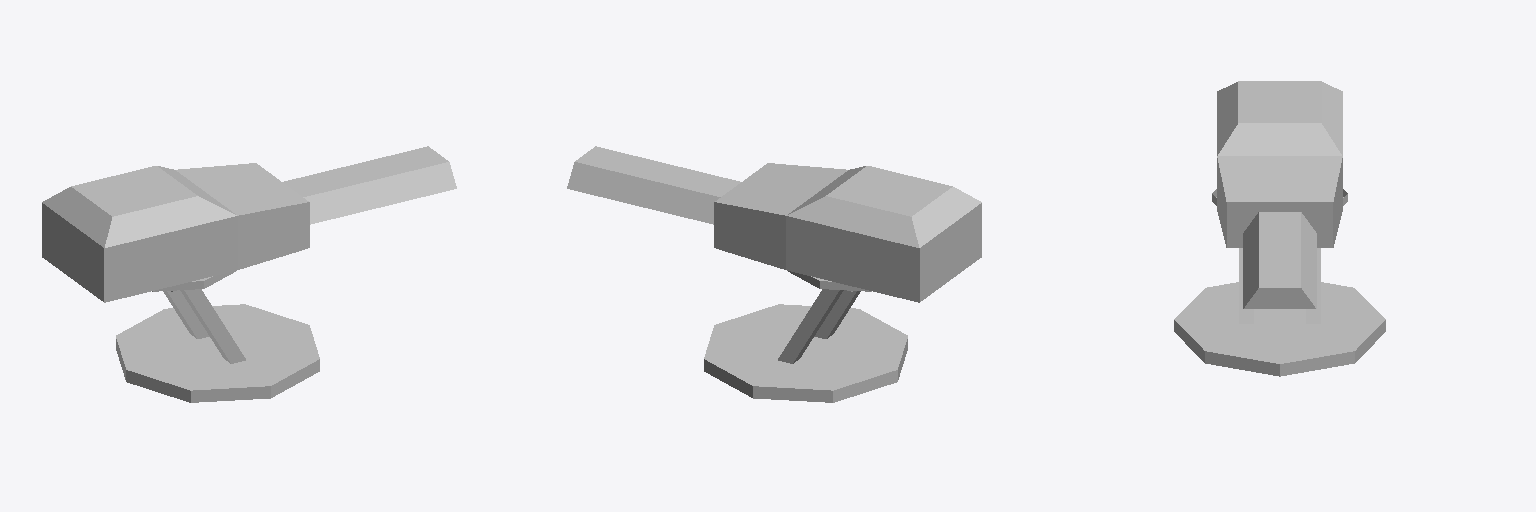
Rendered from turretActive.obj.
3 renders of one model, left to right at view 1: azimuth 30°, elevation 25°; view 2: azimuth 150°, elevation 25°; view 3: azimuth 270°, elevation 25°, orthographic.
Parts seen in each view (by area): view 1: Cube_Cube.003, Cylinder, Cube.001_Cube.002, Cube.003_Cube.005, Cube.002_Cube.004; view 2: Cube_Cube.003, Cylinder, Cube.001_Cube.002, Cube.002_Cube.004, Cube.003_Cube.005; view 3: Cube_Cube.003, Cylinder, Cube.001_Cube.002.
Boxes of the visible parts, box(x1,y1,x2,y2) form: Cube_Cube.003: box(42, 163, 309, 302); Cylinder: box(116, 304, 319, 402); Cube.001_Cube.002: box(283, 146, 456, 224); Cube.003_Cube.005: box(180, 289, 245, 363); Cube.002_Cube.004: box(163, 291, 209, 338); Cube_Cube.003: box(714, 163, 981, 302); Cylinder: box(704, 304, 907, 402); Cube.001_Cube.002: box(567, 146, 740, 224); Cube.002_Cube.004: box(778, 289, 843, 363); Cube.003_Cube.005: box(814, 291, 860, 338); Cube_Cube.003: box(1217, 81, 1342, 247); Cylinder: box(1174, 282, 1385, 376); Cube.001_Cube.002: box(1243, 212, 1316, 308).
Size of the model in its own units: 2.71 by 1.34 by 1.36.